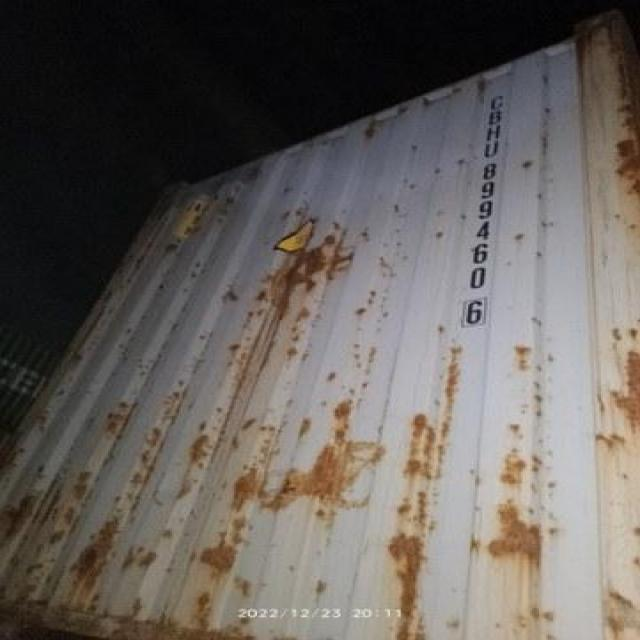rust: (269, 239, 365, 306), (268, 448, 362, 509), (609, 26, 640, 142), (1, 496, 46, 533), (507, 522, 541, 556), (83, 532, 108, 578), (99, 411, 133, 435)
